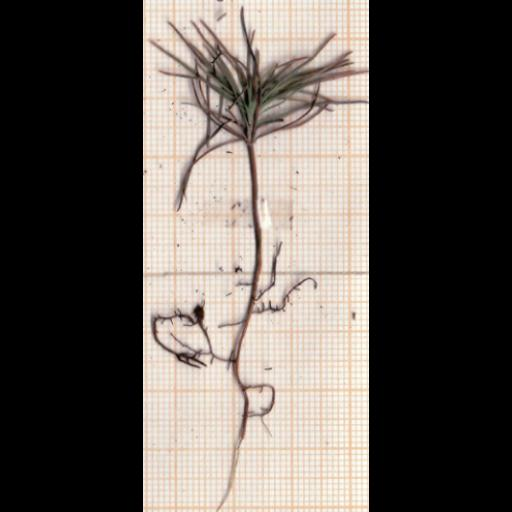flowerCedr: (151, 9, 369, 188)
rootCedr: (152, 257, 319, 511)
stemCedr: (247, 143, 263, 265)
